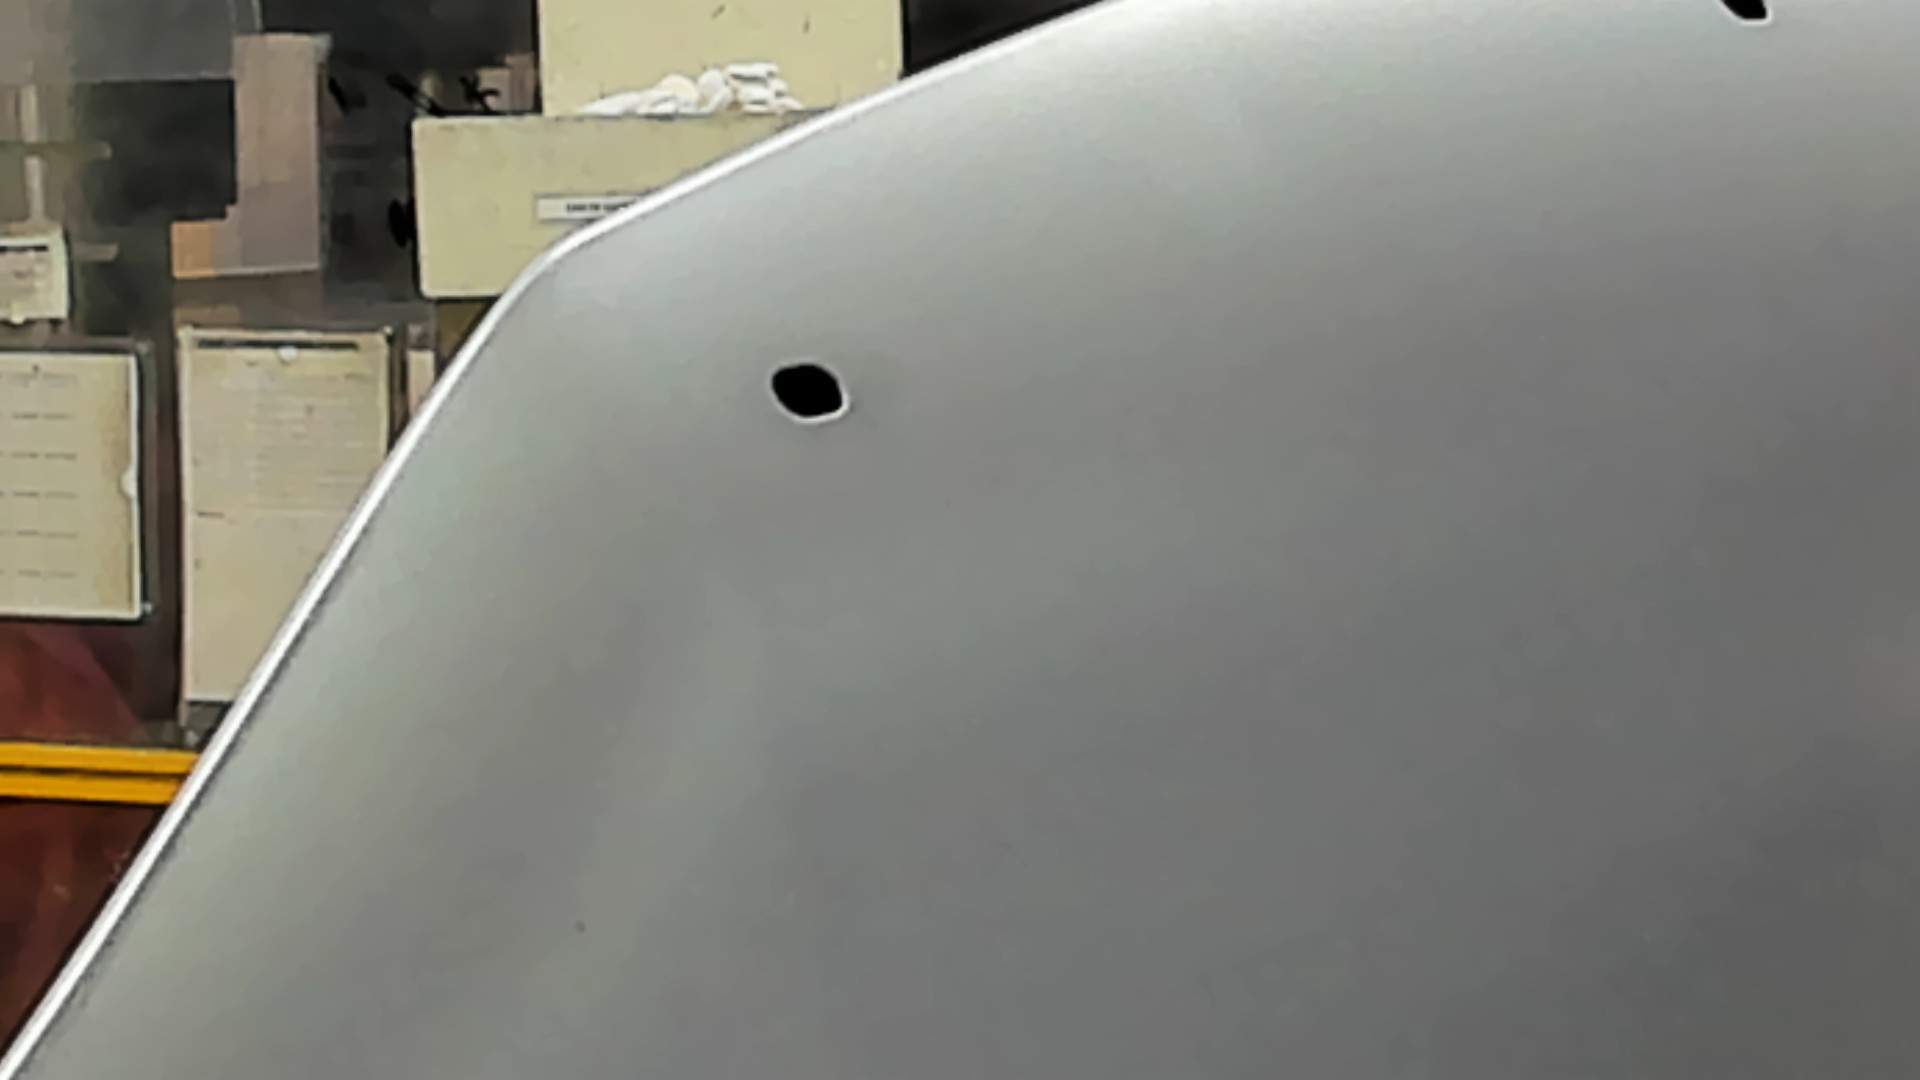amorfo: (761, 359, 868, 427), (1713, 1, 1782, 38)
